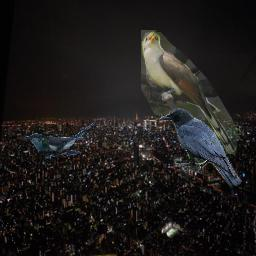Crow: (159, 108, 242, 189)
Cuckoo: (141, 30, 238, 154), (23, 122, 97, 159)
